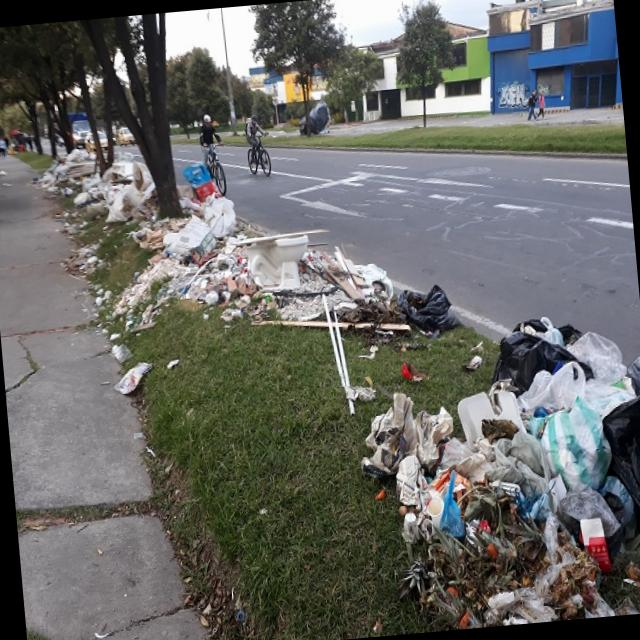garbage: (362, 292, 640, 635), (116, 172, 448, 374), (50, 121, 155, 218)
